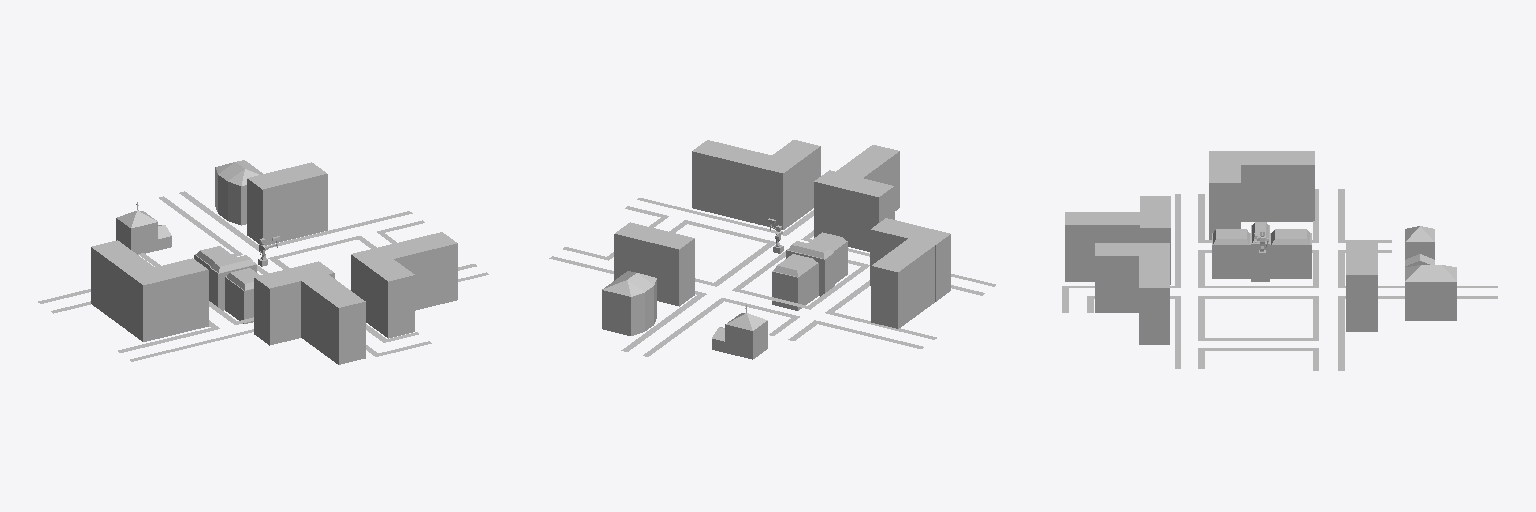
File: town.obj
The picture shows the model from 3 angles: view 1: azimuth 30°, elevation 25°; view 2: azimuth 150°, elevation 25°; view 3: azimuth 270°, elevation 25°; orthographic projection.
Parts seen in each view (by area): view 1: Cube.033_Cube.020; view 2: Cube.033_Cube.020; view 3: Cube.033_Cube.020.
Part boxes in pixels (left/top/right/bottom): Cube.033_Cube.020: left=38, top=160, right=488, bottom=364; Cube.033_Cube.020: left=549, top=140, right=995, bottom=359; Cube.033_Cube.020: left=1062, top=151, right=1497, bottom=370.
Bounding box in the file's own units: 1.51 × 0.2507 × 1.53.